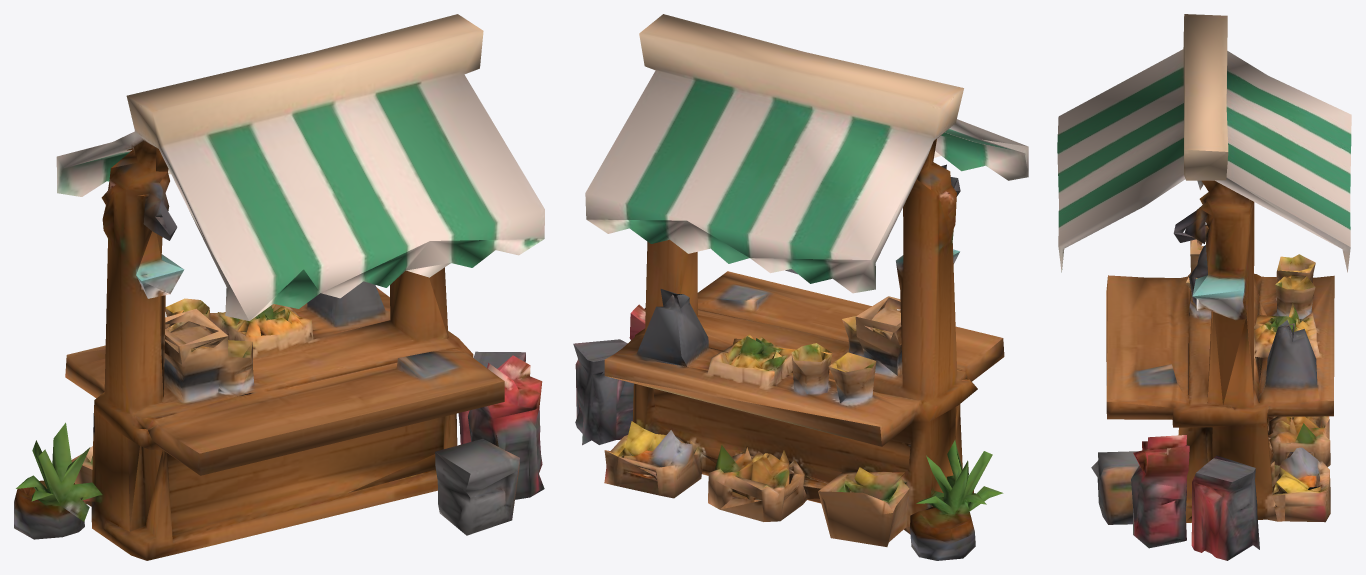
Rendered from awning_stall_5_3000.glb.
3 renders of one model, left to right at view 1: azimuth 30°, elevation 25°; view 2: azimuth 150°, elevation 25°; view 3: azimuth 270°, elevation 25°, orthographic. The views are drawn at different scales.
Visible parts, largest first — view 1: t3000; view 2: t3000; view 3: t3000.
Part boxes in pixels (x1,y1,x2,y2): t3000: (14, 14, 544, 560); t3000: (573, 14, 1028, 560); t3000: (1057, 14, 1351, 560).
Bounding box in the file's own units: 1.9 × 1.7 × 1.19.
Materials: 1 (1 with a texture image).
